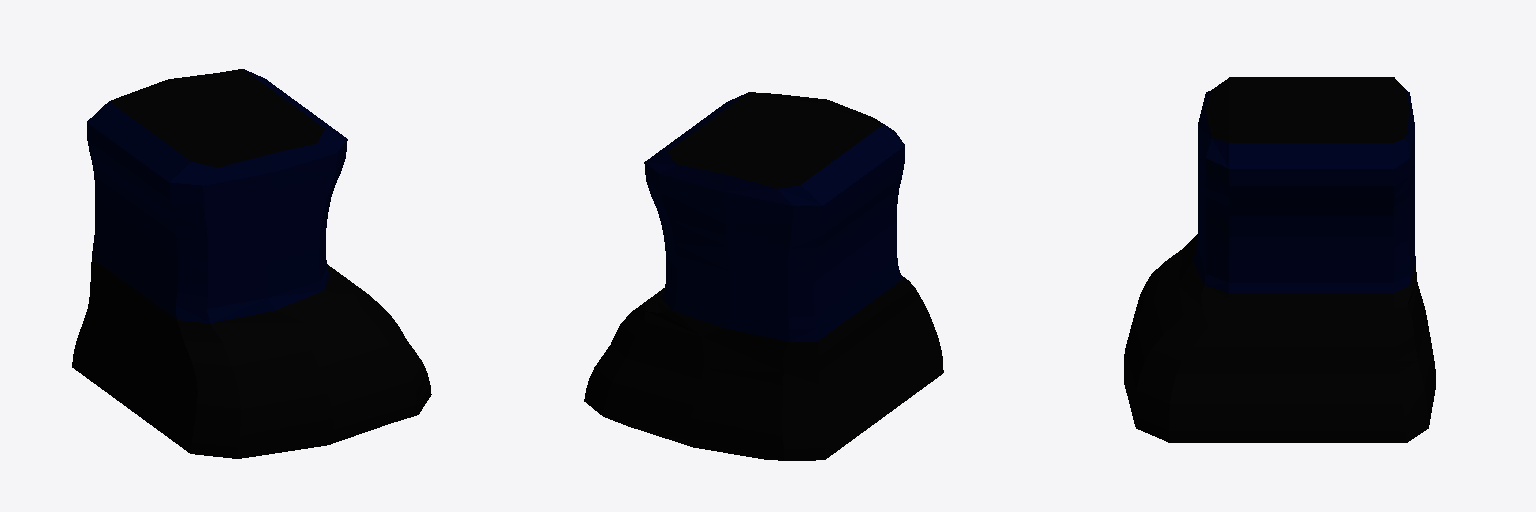
Rendered from L_leg.obj.
3 renders of one model, left to right at view 1: azimuth 30°, elevation 25°; view 2: azimuth 150°, elevation 25°; view 3: azimuth 270°, elevation 25°, orthographic.
Parts seen in each view (by area): view 1: L_leg:Mesh; view 2: L_leg:Mesh; view 3: L_leg:Mesh.
Part boxes in pixels (bbox=[...]): L_leg:Mesh: bbox=[72, 69, 431, 458]; L_leg:Mesh: bbox=[584, 92, 943, 460]; L_leg:Mesh: bbox=[1124, 77, 1435, 442].
Bounding box in the file's own units: 0.619 × 0.6863 × 0.6956.